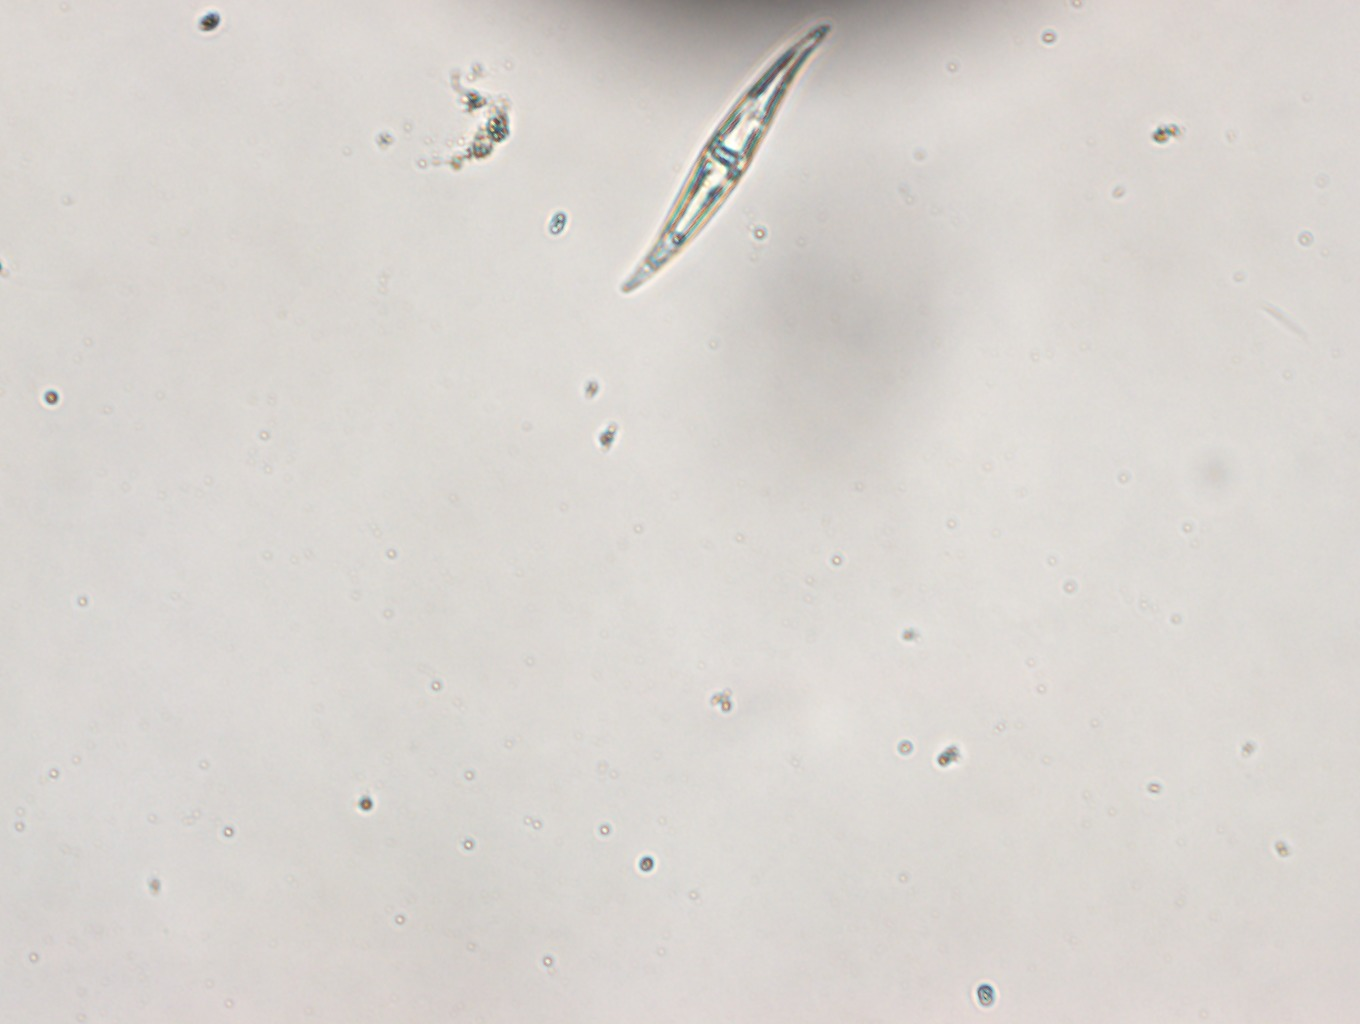pleurosigma pelagicum: (617, 23, 830, 294)
